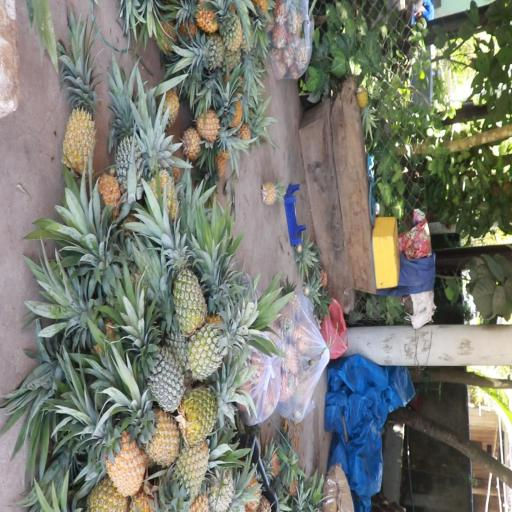------------------------------: (184, 308, 251, 378), (161, 232, 206, 328), (185, 379, 251, 441)
Pineapple - v8 v1: (80, 399, 144, 491), (60, 56, 98, 180), (129, 392, 181, 462), (146, 131, 182, 232), (190, 101, 246, 152), (170, 439, 210, 500)
